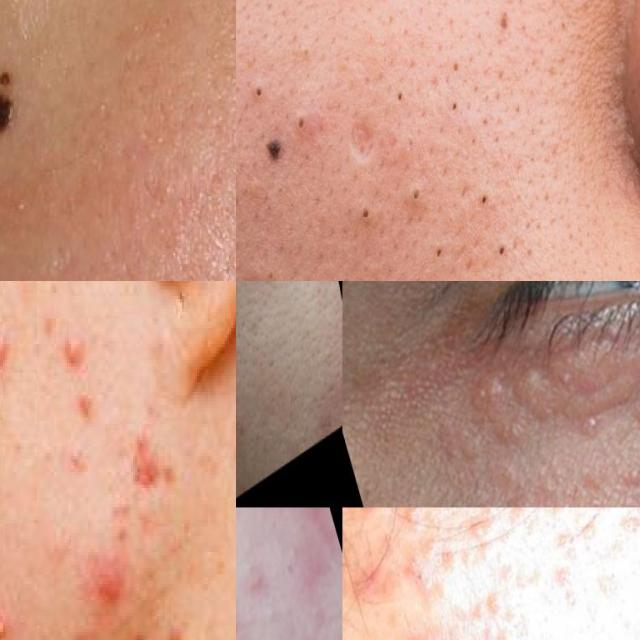acne_scars: (133, 408, 195, 517), (350, 99, 376, 166)
comedone: (270, 531, 314, 603), (509, 507, 556, 550), (396, 548, 432, 598), (292, 98, 326, 149), (490, 233, 530, 276), (241, 64, 274, 116), (551, 522, 585, 570), (603, 507, 640, 550), (383, 78, 417, 120), (475, 580, 508, 623), (507, 559, 540, 602), (551, 572, 583, 616), (573, 508, 606, 548), (407, 171, 435, 217), (352, 188, 376, 238), (0, 88, 19, 151), (461, 511, 493, 548), (474, 180, 505, 216), (262, 250, 294, 281), (430, 238, 456, 270), (542, 508, 572, 522), (0, 64, 16, 86)
milium: (611, 384, 640, 455)
pustule: (56, 315, 114, 389), (0, 295, 28, 430), (0, 597, 24, 640)
syringoma: (442, 371, 536, 475), (508, 344, 593, 430), (603, 309, 640, 383)
